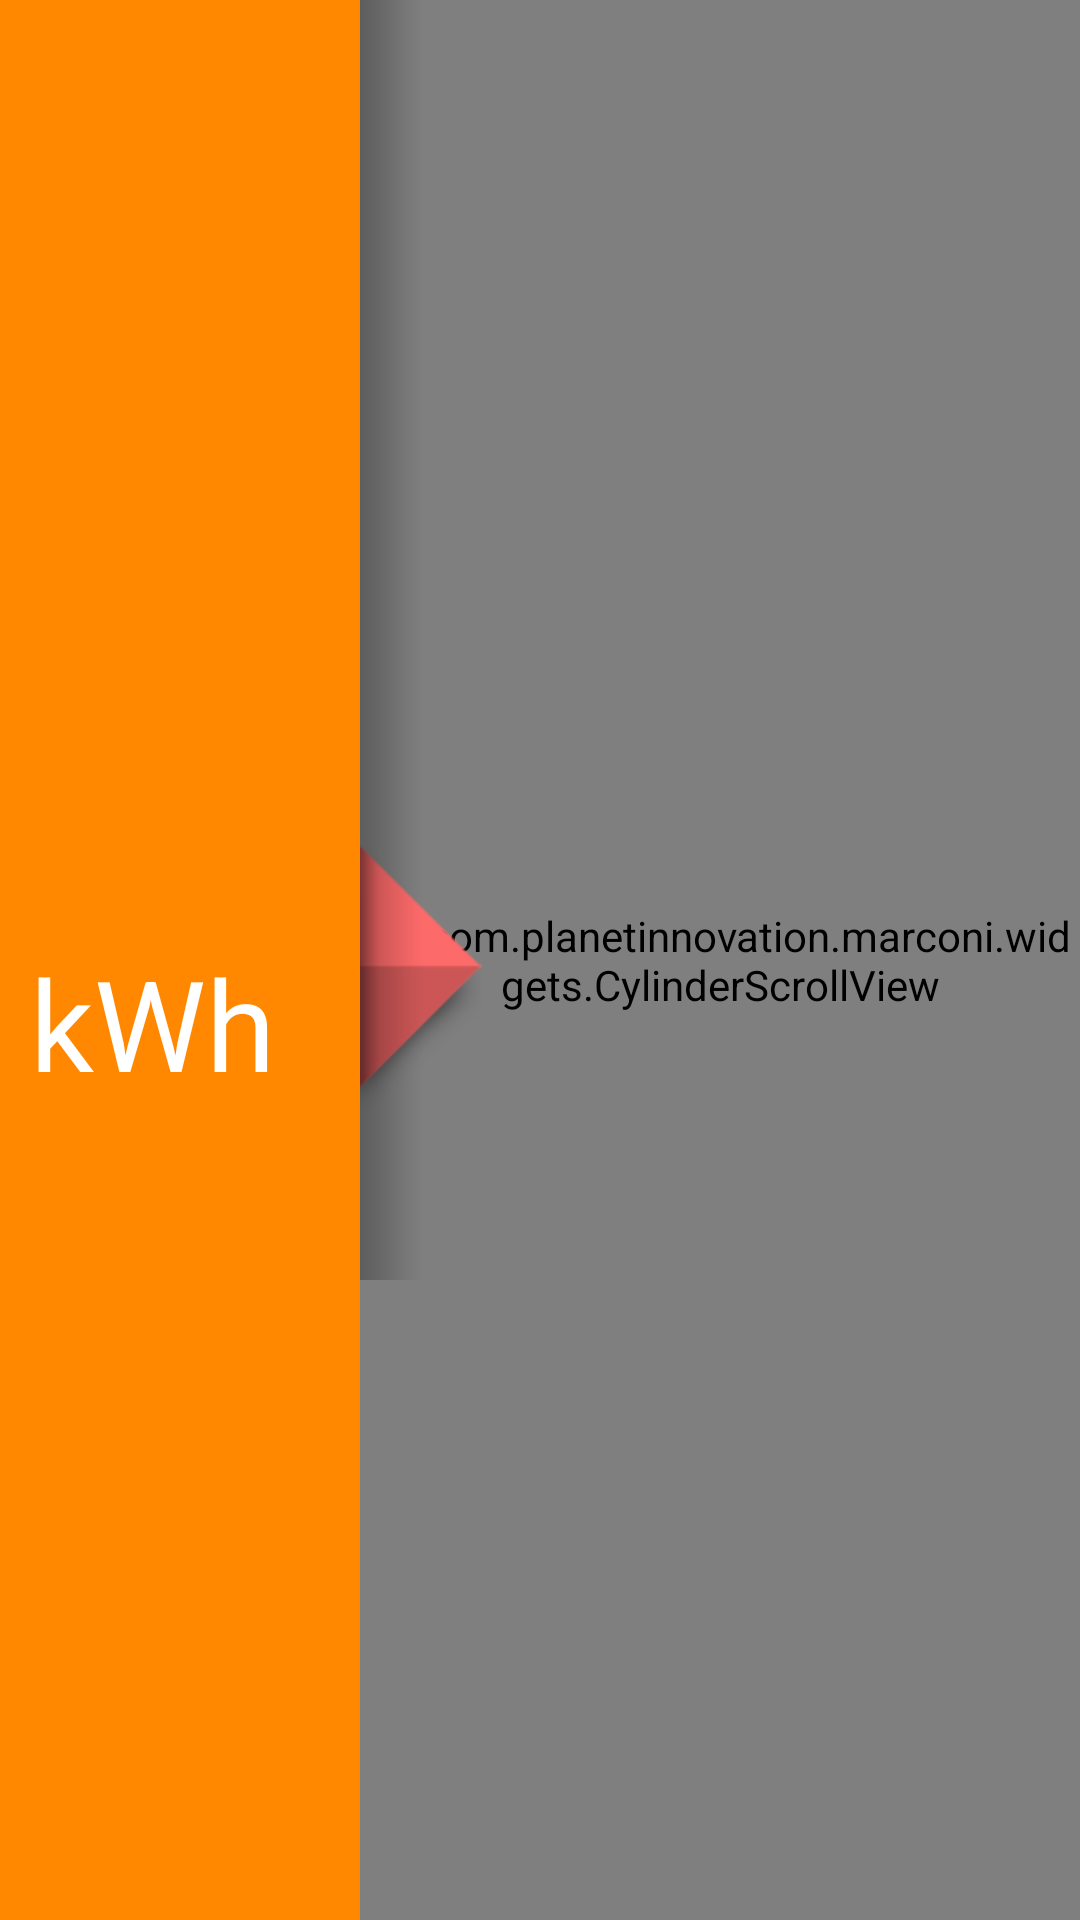

Screen size 1080×1920. Icon name, then its center in pixels as [x,y]:
arrow: [421,960]
